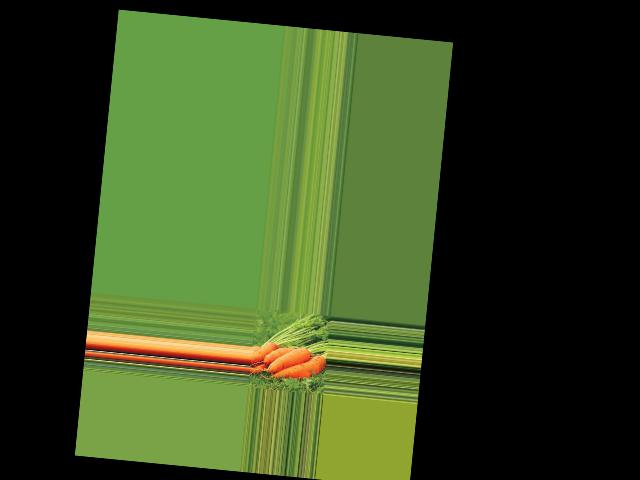carrot: (252, 337, 278, 368)
